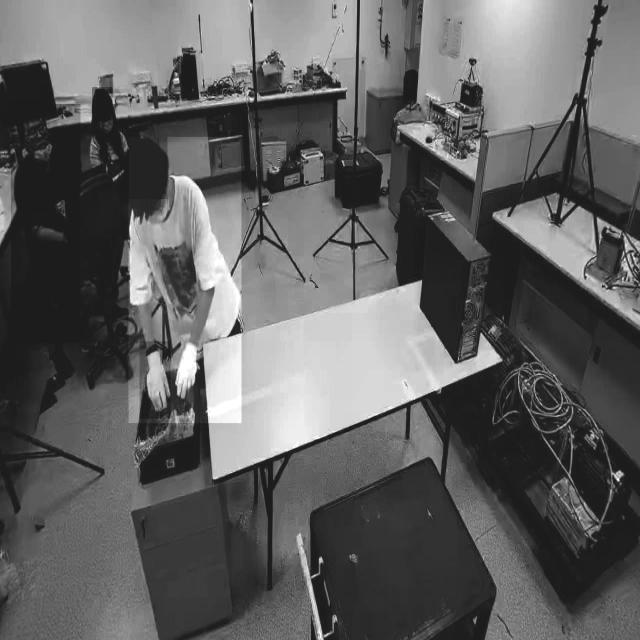face_mask: (102, 104, 115, 142)
face_nomask: (26, 120, 50, 152)
hand_glove: (139, 342, 171, 419), (172, 337, 202, 398)
head_nohelmet: (126, 137, 168, 199), (16, 102, 40, 123), (91, 87, 112, 108)
person: (128, 137, 242, 424), (10, 104, 80, 344), (92, 89, 132, 192)
